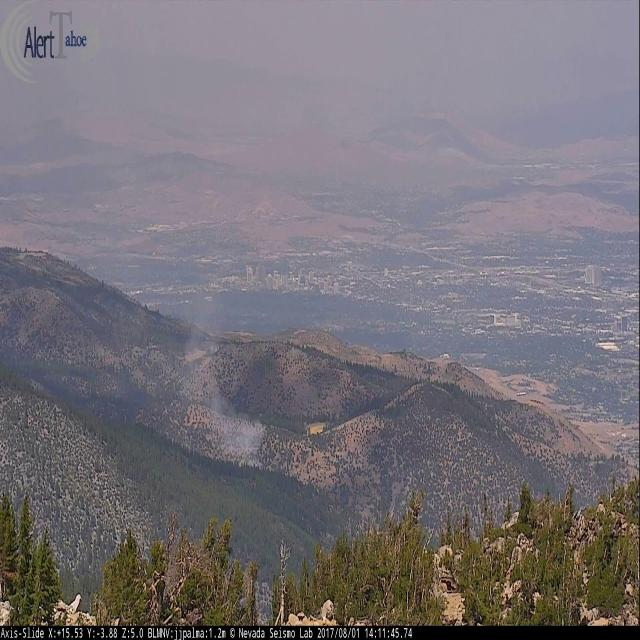smoke: (182, 289, 266, 467)
